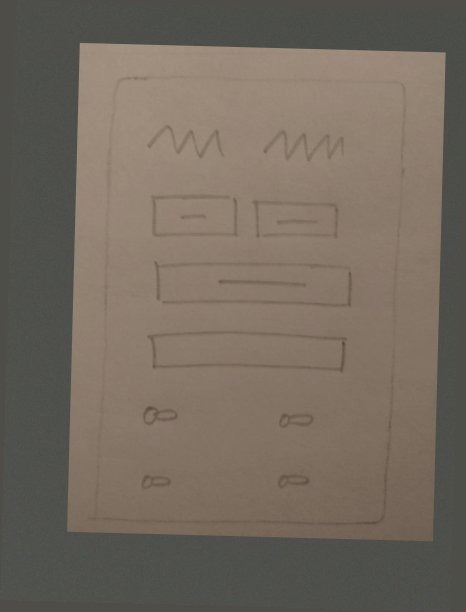button: (143, 254, 365, 313), (141, 187, 247, 244), (249, 193, 346, 243)
switch: (265, 464, 337, 497), (267, 402, 326, 438), (133, 394, 186, 434), (128, 465, 189, 498)
text: (257, 120, 358, 171), (140, 116, 235, 163)
text_input: (144, 322, 356, 379)
